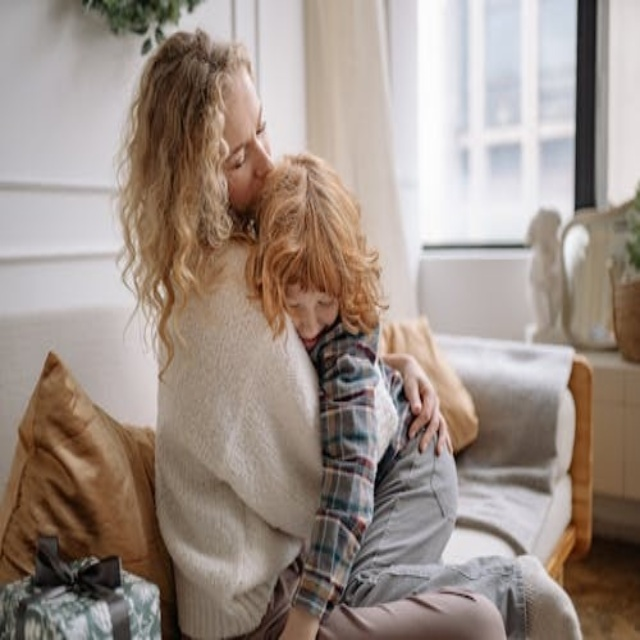Sin_gafas: (218, 96, 273, 179), (285, 286, 334, 323)
